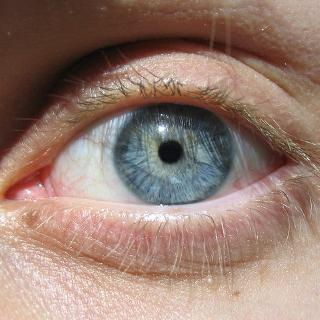pupil: (158, 141, 182, 164)
